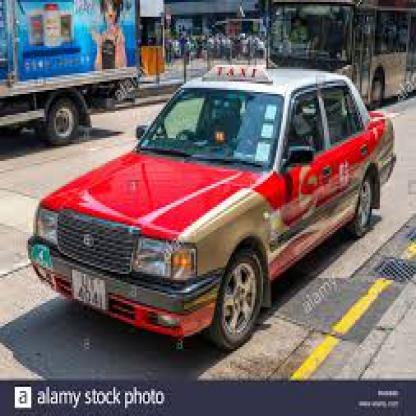taxi: (28, 58, 401, 355)
